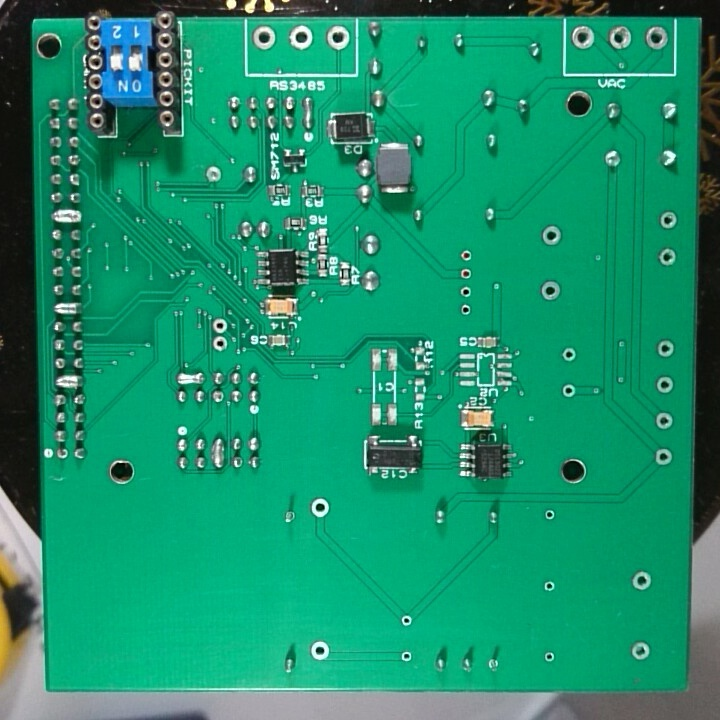F: (605, 22, 634, 57), (569, 22, 597, 55), (324, 21, 350, 55), (252, 23, 279, 55), (307, 636, 333, 665), (643, 22, 666, 54), (287, 24, 314, 51), (539, 223, 564, 252), (628, 635, 653, 664), (308, 494, 333, 523), (540, 278, 564, 308), (600, 146, 625, 172), (203, 161, 227, 188), (653, 336, 676, 363), (629, 568, 654, 592), (652, 408, 676, 432), (653, 446, 677, 470), (654, 372, 676, 398), (657, 208, 679, 233), (658, 246, 678, 269), (484, 654, 504, 675), (210, 315, 231, 335), (210, 333, 230, 353), (559, 346, 579, 366), (210, 386, 228, 408), (540, 578, 559, 598), (281, 506, 297, 529), (541, 504, 559, 524), (561, 383, 579, 403), (398, 611, 415, 632), (458, 301, 476, 320), (456, 264, 473, 284), (457, 280, 473, 300), (541, 648, 557, 667), (457, 245, 473, 263), (54, 444, 69, 463), (399, 646, 413, 666)
P: (50, 206, 84, 227), (299, 93, 317, 129), (209, 435, 226, 471), (174, 370, 205, 388), (51, 301, 84, 317), (54, 374, 87, 390)
